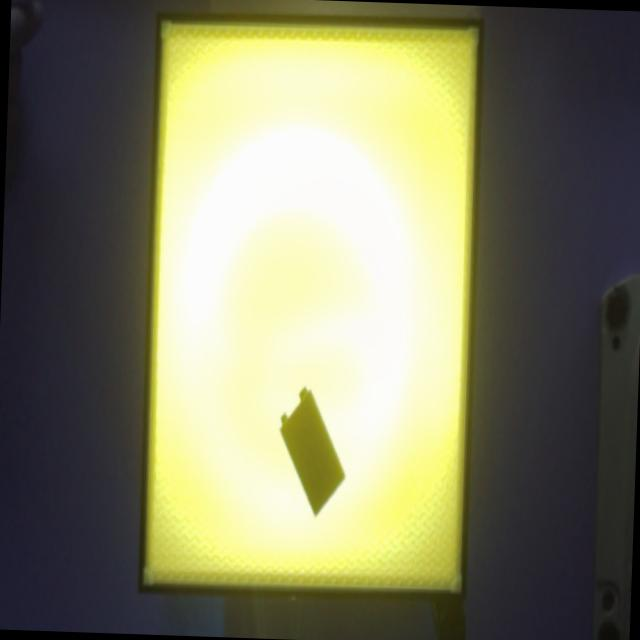bateria: (279, 386, 345, 516)
mesa: (138, 12, 484, 603)
